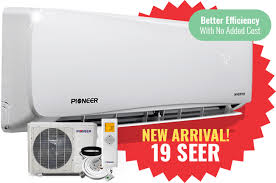ac: (1, 4, 251, 134)
